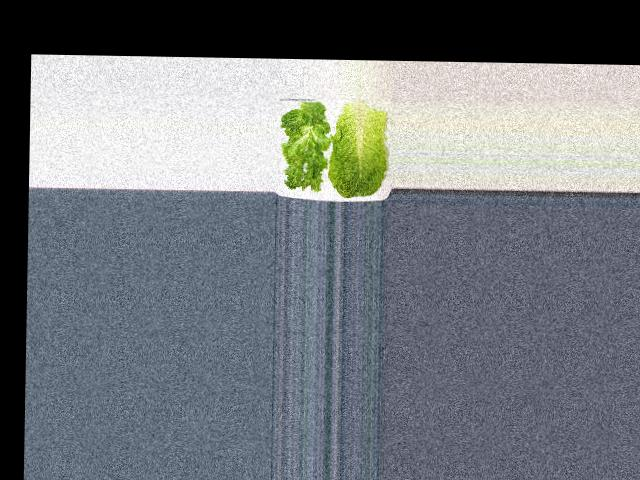lettuce: (274, 104, 328, 192)
